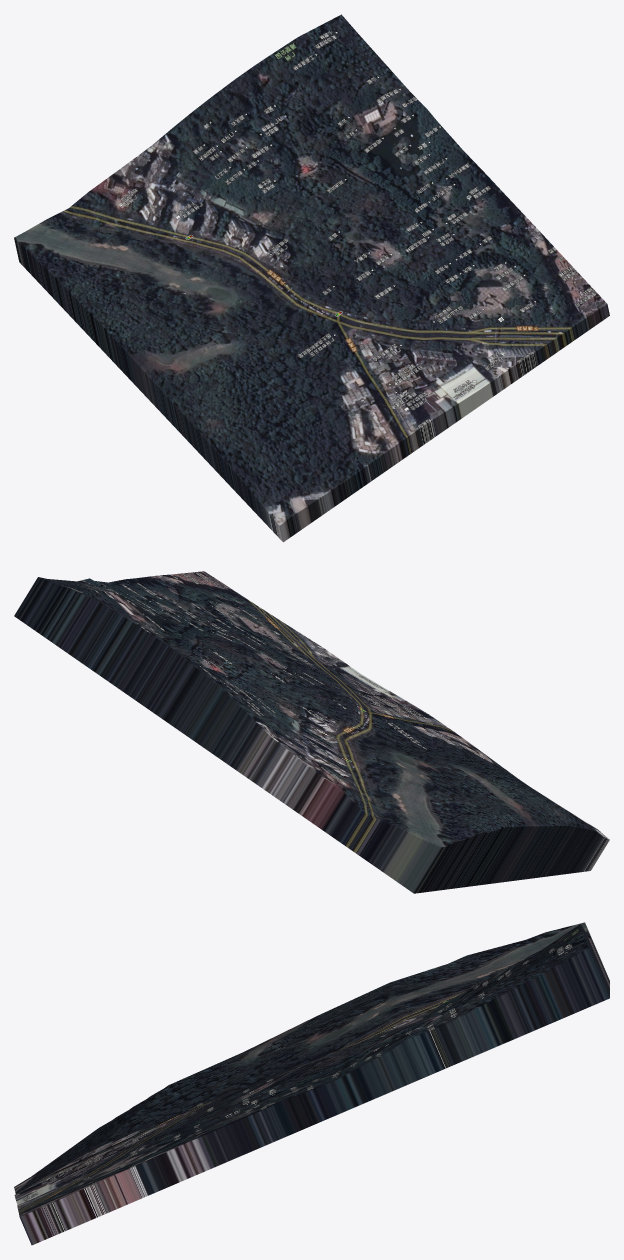
The picture shows the model from 3 angles, top to bottom: view 1: azimuth 30°, elevation 25°; view 2: azimuth 150°, elevation 25°; view 3: azimuth 270°, elevation 25°; orthographic projection. The views are drawn at different scales.
Parts seen in each view (by area): view 1: 0_4_12; view 2: 0_4_12; view 3: 0_4_12.
Boxes of the visible parts, x1=… form: 0_4_12: x1=14, y1=14, x2=609, y2=542; 0_4_12: x1=14, y1=571, x2=609, y2=893; 0_4_12: x1=14, y1=922, x2=609, y2=1245.
Size of the model in its own units: 614 by 471 by 558.
1 material, 1 textured.
